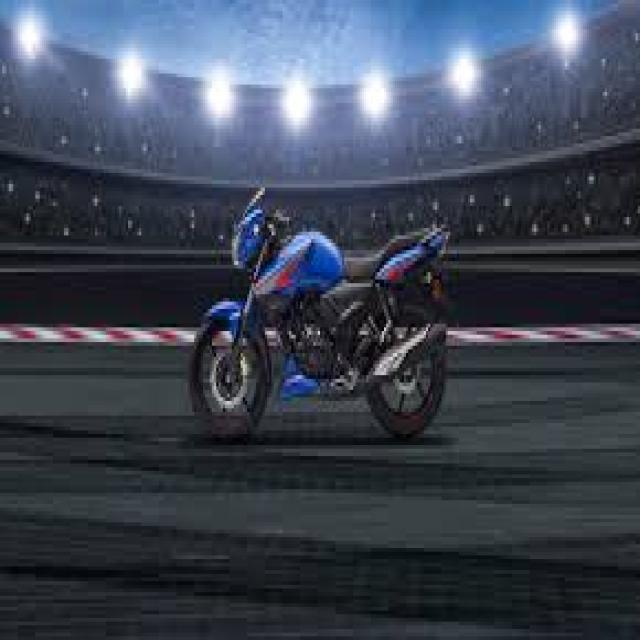bike: (184, 192, 457, 453)
